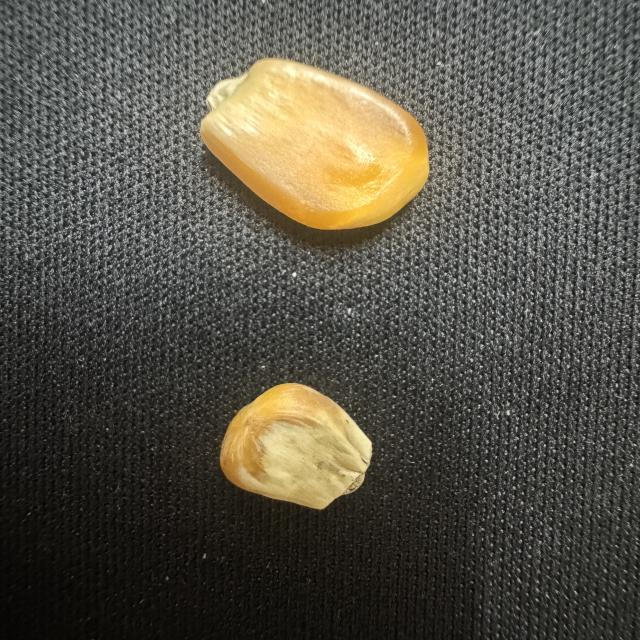Bad-Seed: (214, 377, 382, 513)
Good-Seed: (186, 51, 444, 235)
